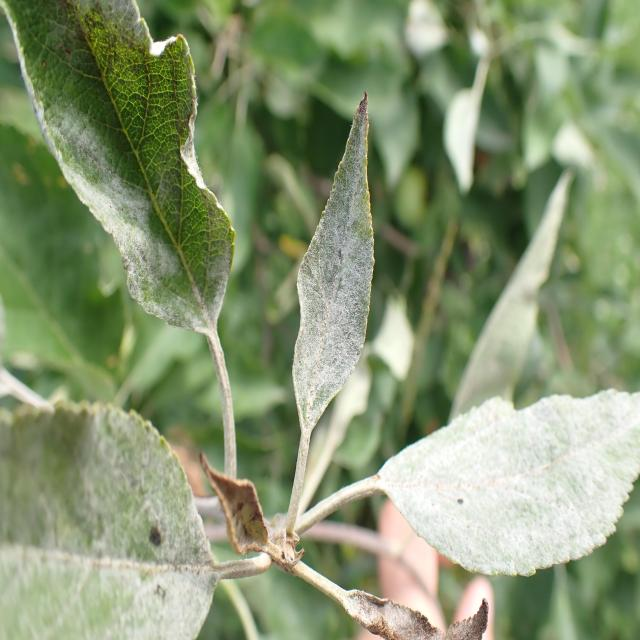Powdery_mildew: (11, 0, 242, 363), (329, 376, 640, 601), (0, 388, 230, 640), (282, 66, 380, 448)
